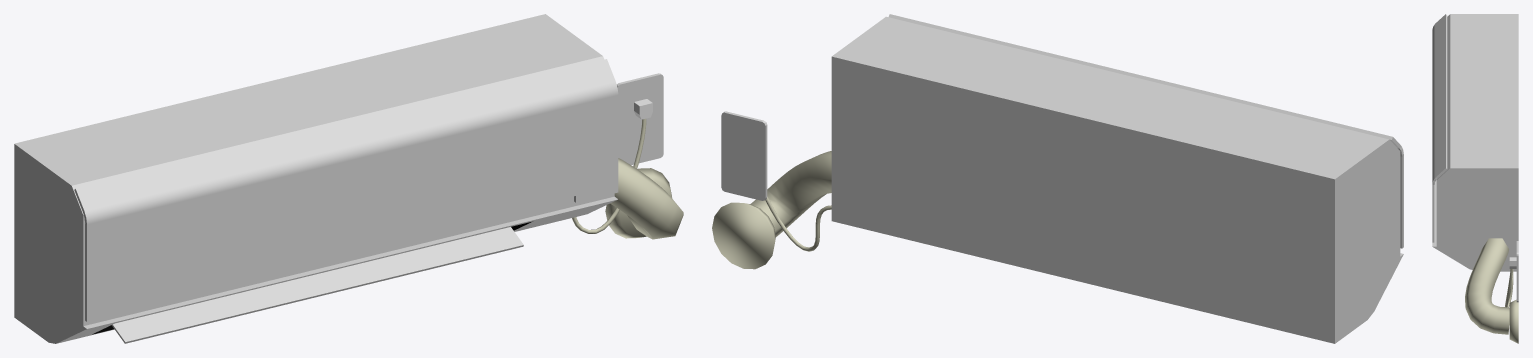
File: aircon.glb
3 renders of one model, left to right at view 1: azimuth 30°, elevation 25°; view 2: azimuth 150°, elevation 25°; view 3: azimuth 270°, elevation 25°, orthographic. The views are drawn at different scales.
Visible parts, largest first — view 1: Cube.001, Cube, Cube.002, Cube.004, BézierCurve, Cylinder, BézierCurve.001; view 2: Cube, Cube.004, Cylinder, BézierCurve, Cube.001, BézierCurve.001; view 3: Cube, BézierCurve, Cube.001, Cylinder, BézierCurve.001, Cube.004, Cube.003.
Boxes of the visible parts, <box> form: Cube.001: <box>74,59,618,321</box>; Cube: <box>14,14,617,343</box>; Cube.002: <box>111,227,523,343</box>; Cube.004: <box>616,73,663,165</box>; BézierCurve: <box>610,158,683,239</box>; Cylinder: <box>605,168,672,238</box>; BézierCurve.001: <box>572,118,646,233</box>; Cube: <box>831,16,1403,343</box>; Cube.004: <box>721,111,767,200</box>; Cylinder: <box>712,202,775,269</box>; BézierCurve: <box>750,151,831,236</box>; Cube.001: <box>888,14,1403,248</box>; BézierCurve.001: <box>765,196,831,251</box>; Cube: <box>1432,14,1518,271</box>; BézierCurve: <box>1465,238,1509,334</box>; Cube.001: <box>1432,14,1447,242</box>; Cylinder: <box>1509,299,1518,343</box>; BézierCurve.001: <box>1505,269,1513,307</box>; Cube.004: <box>1516,241,1518,302</box>; Cube.003: <box>1509,257,1516,268</box>.
Size of the model in its own units: 0.99 by 0.355 by 0.19.
